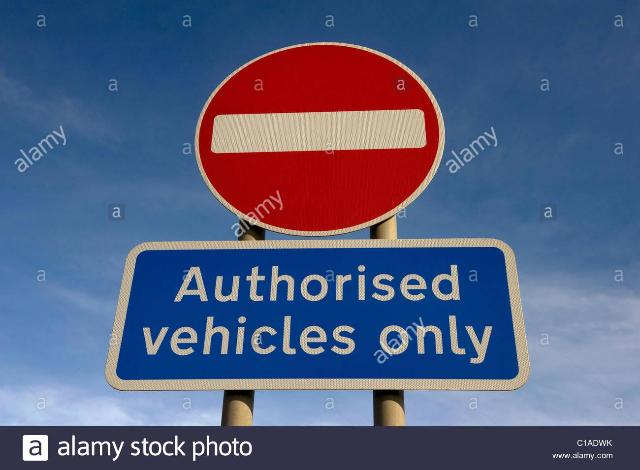B2: (104, 236, 530, 392), (194, 41, 446, 237)
